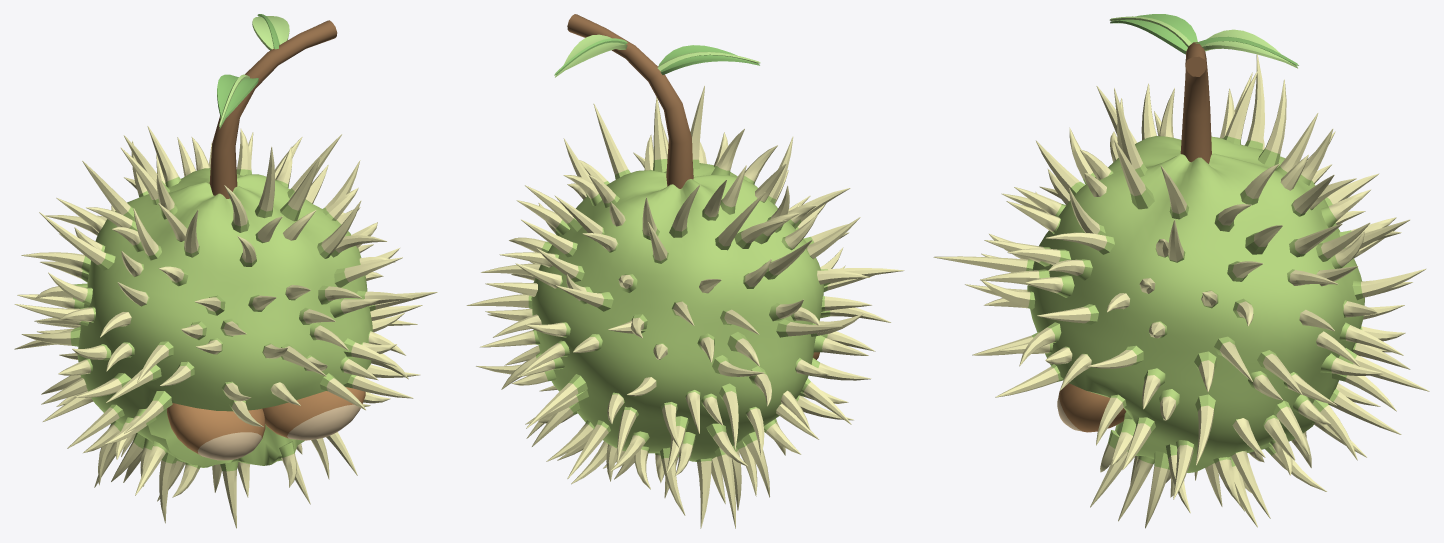
File: G08_ChestnutBurrFaller.fbx
3 views of the same model, side by side, from view 1: azimuth 30°, elevation 25°; view 2: azimuth 150°, elevation 25°; view 3: azimuth 270°, elevation 25° (orthographic). The views are drawn at different scales.
Parts seen in each view (by area): view 1: GM_G08_ChestnutBurr, GM_G08_Stem; view 2: GM_G08_ChestnutBurr, GM_G08_Stem; view 3: GM_G08_ChestnutBurr, GM_G08_Stem.
Part boxes in pixels (x1=…): GM_G08_ChestnutBurr: x1=14, y1=126, x2=437, y2=528; GM_G08_Stem: x1=209, y1=14, x2=337, y2=198; GM_G08_ChestnutBurr: x1=466, y1=85, x2=904, y2=528; GM_G08_Stem: x1=554, y1=14, x2=760, y2=188; GM_G08_ChestnutBurr: x1=933, y1=54, x2=1429, y2=528; GM_G08_Stem: x1=1109, y1=14, x2=1298, y2=163.
Bounding box in the file's own units: 154 × 178 × 155.
